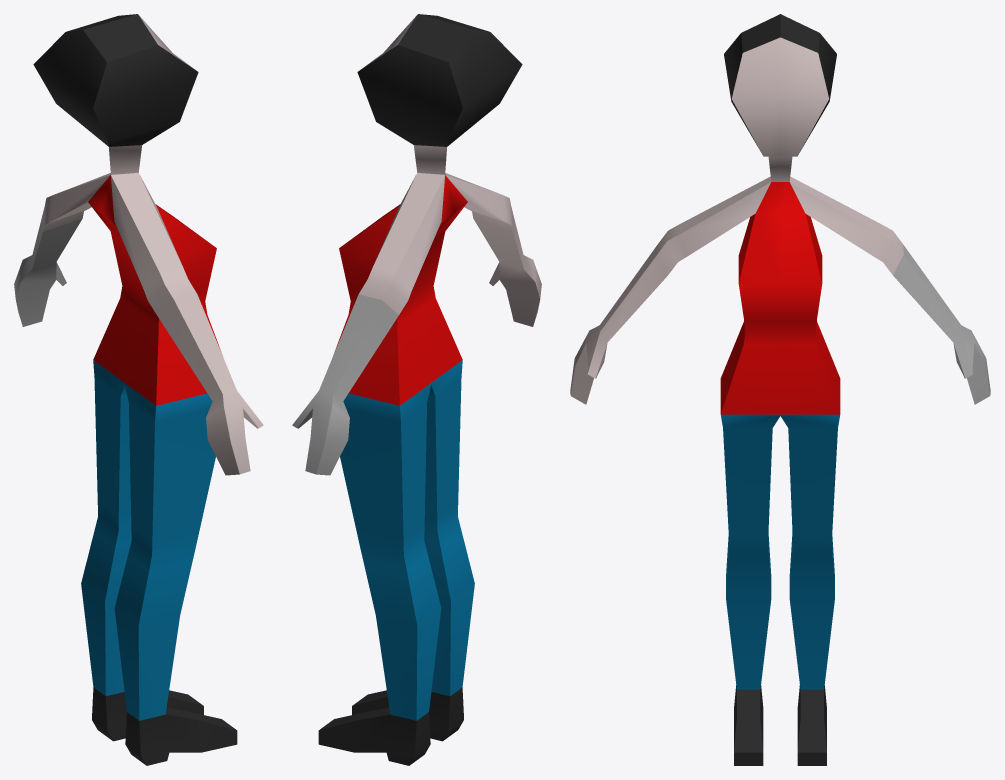
Rendered from newLady.fbx.
3 views of the same model, side by side, from view 1: azimuth 30°, elevation 25°; view 2: azimuth 150°, elevation 25°; view 3: azimuth 270°, elevation 25° (orthographic). The views are drawn at different scales.
Visible parts, largest first — view 1: pCube2; view 2: pCube2; view 3: pCube2.
Boxes of the visible parts, x1=… form: pCube2: x1=14, y1=14, x2=263, y2=765; pCube2: x1=292, y1=14, x2=541, y2=765; pCube2: x1=570, y1=14, x2=990, y2=765.
Size of the model in its own units: 2.32 by 10.85 by 5.96.
